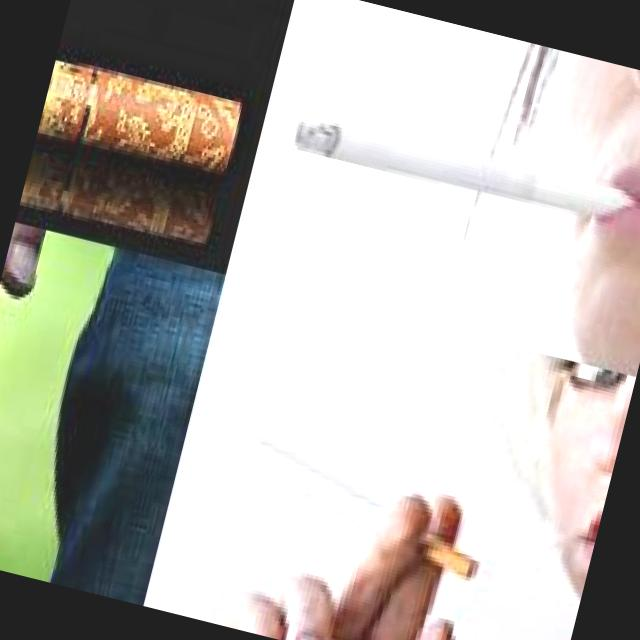smoke: (290, 106, 640, 233), (230, 438, 496, 579), (35, 53, 245, 188)
